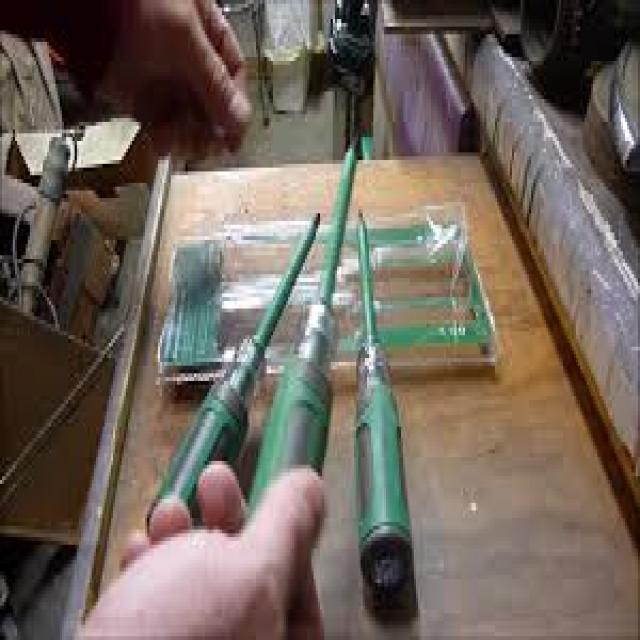screwdriver: (147, 204, 322, 536), (244, 120, 362, 528), (350, 200, 416, 608)
